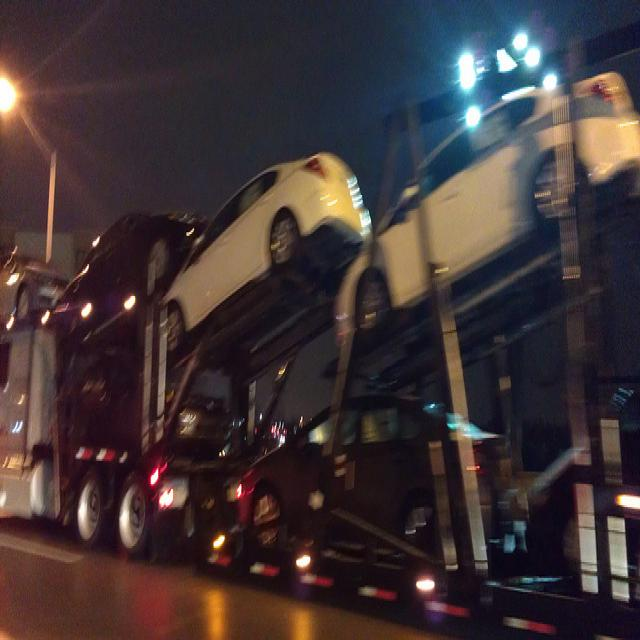Car: (0, 394, 617, 616), (327, 38, 640, 438), (168, 114, 382, 433), (78, 147, 199, 436)
